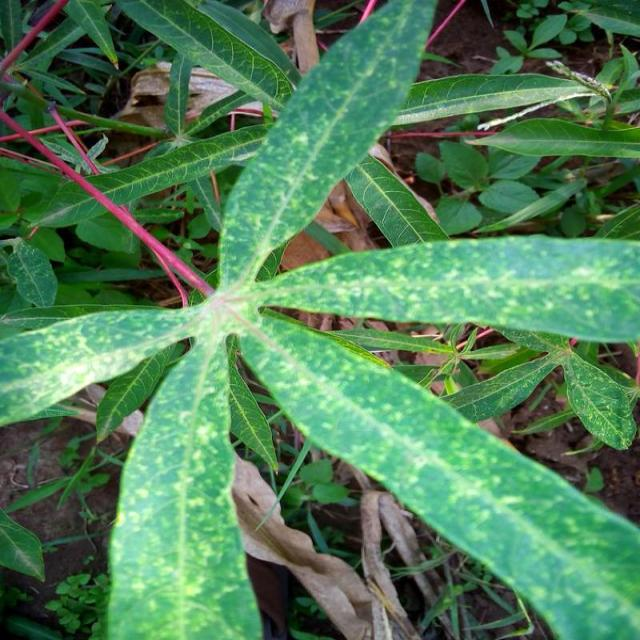cassava leaf: (2, 0, 640, 638), (238, 305, 640, 638), (217, 0, 441, 294), (106, 329, 264, 638), (250, 232, 640, 343)
